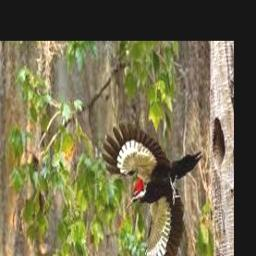Woodpecker: (99, 121, 202, 256)
